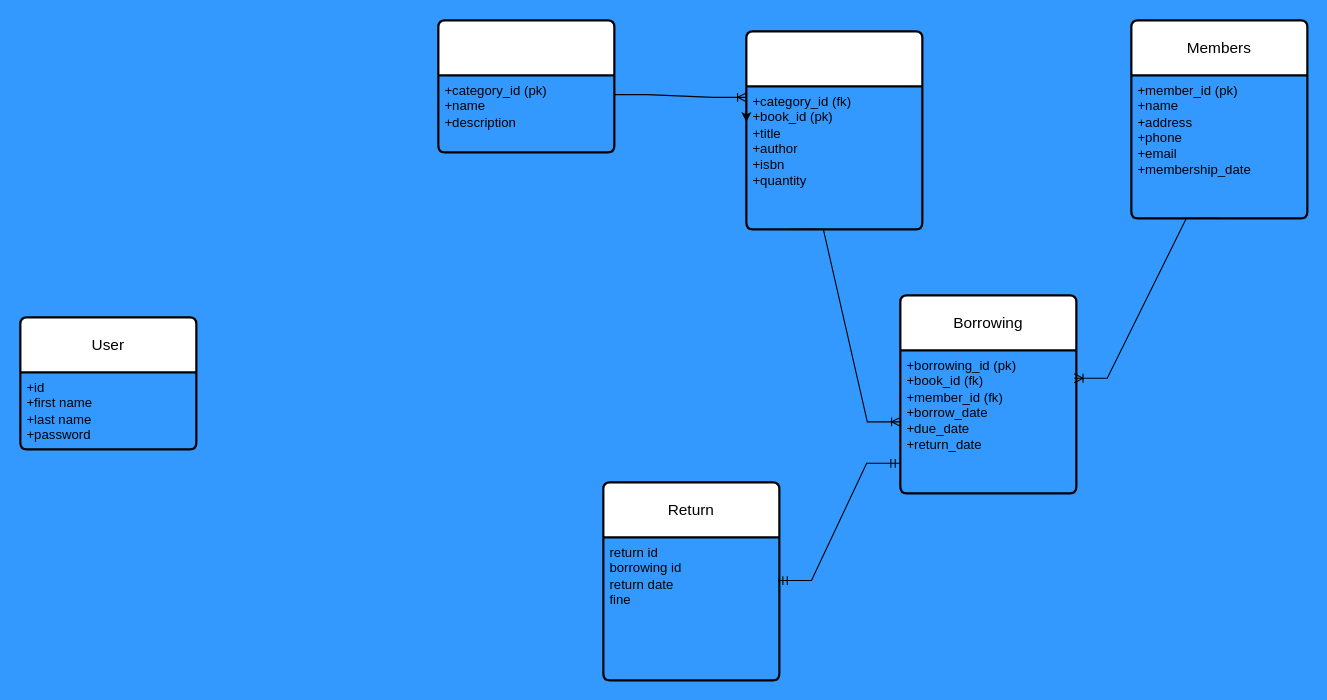
Image size: 1327x700. Some labels were removed from this diagram. Here are the shapes that lost their labels. From the top down, the box of each, then its label:
(437, 19, 615, 153): Categories
(745, 30, 923, 230): Books
